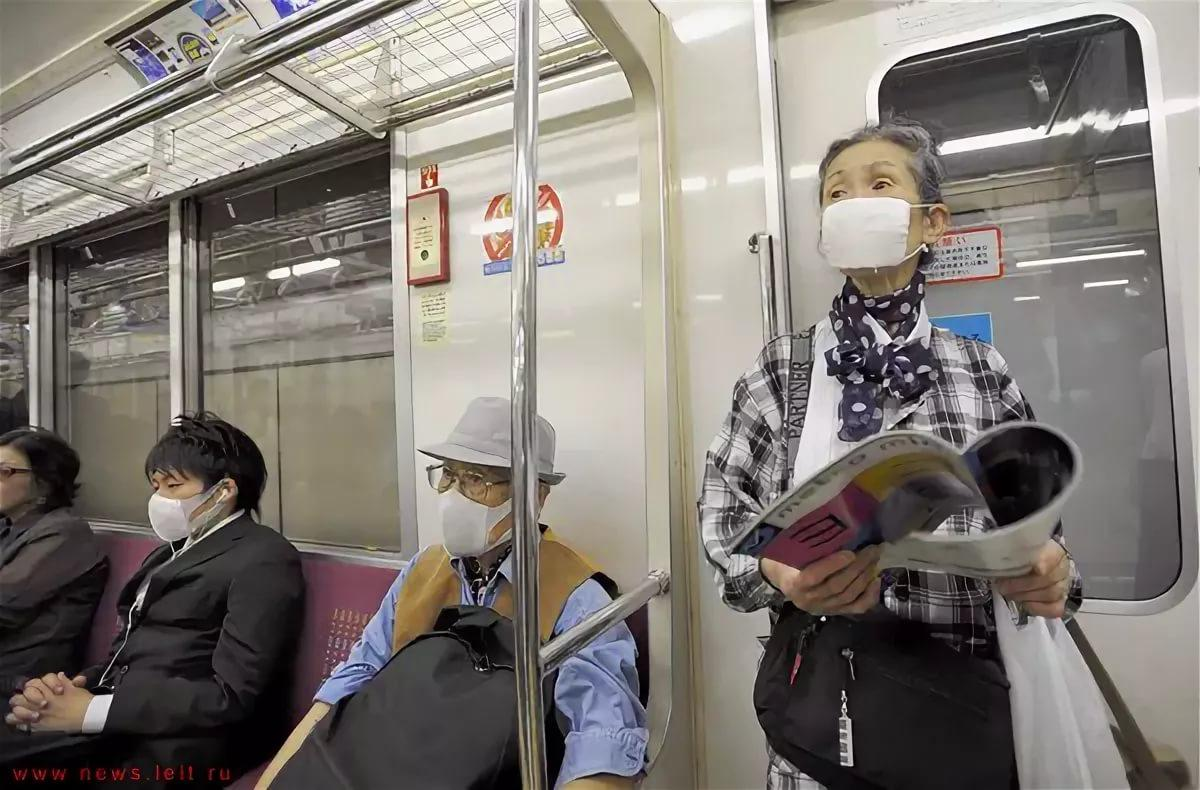mask: (818, 142, 925, 274), (427, 454, 510, 552), (149, 446, 222, 541)
